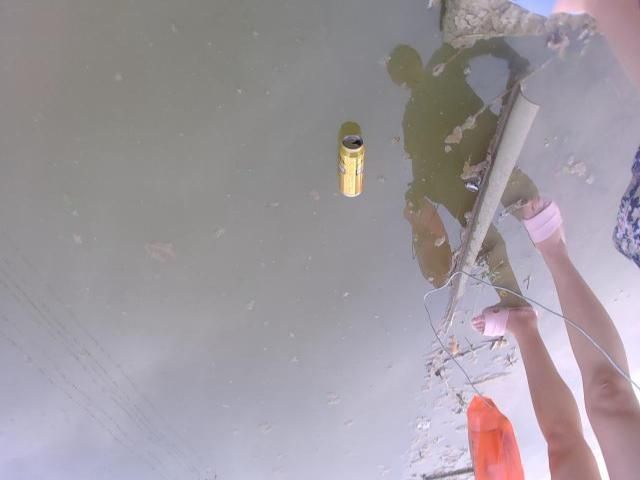Can: (334, 132, 370, 202)
